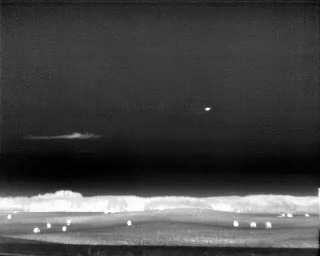BIRD: (203, 104, 212, 114)
